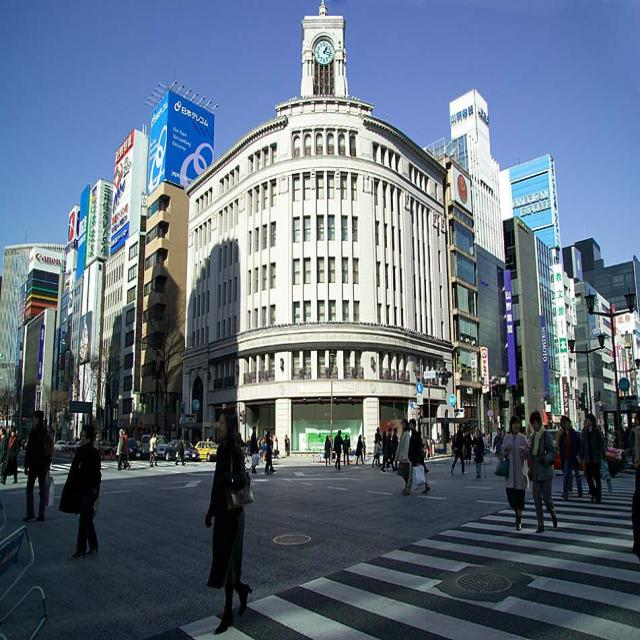body: (204, 404, 254, 635), (57, 423, 102, 559), (493, 412, 532, 531), (525, 408, 558, 535), (23, 407, 56, 523), (582, 415, 611, 498), (401, 418, 431, 497), (556, 416, 584, 499), (580, 411, 604, 504), (555, 414, 574, 495), (394, 418, 412, 492), (0, 424, 20, 486), (450, 421, 467, 475), (470, 426, 486, 479), (381, 427, 397, 473), (263, 428, 277, 476), (385, 426, 399, 468), (249, 425, 260, 475), (492, 426, 504, 470), (333, 428, 345, 471), (117, 429, 129, 470), (174, 435, 187, 467), (381, 429, 391, 469), (148, 432, 158, 468), (122, 429, 130, 469), (152, 428, 160, 468), (355, 435, 365, 467), (464, 426, 472, 466), (0, 427, 8, 466), (324, 434, 333, 468), (372, 439, 382, 469), (342, 433, 351, 466), (374, 435, 383, 468), (256, 435, 266, 464), (270, 433, 280, 459), (422, 441, 434, 459), (238, 432, 251, 448), (374, 426, 383, 448), (77, 427, 87, 444), (115, 434, 121, 462), (283, 433, 290, 456), (361, 436, 367, 461), (500, 426, 507, 439), (482, 433, 487, 450), (423, 460, 429, 474), (437, 430, 443, 444), (328, 433, 333, 448), (449, 430, 453, 448), (269, 432, 273, 438)
